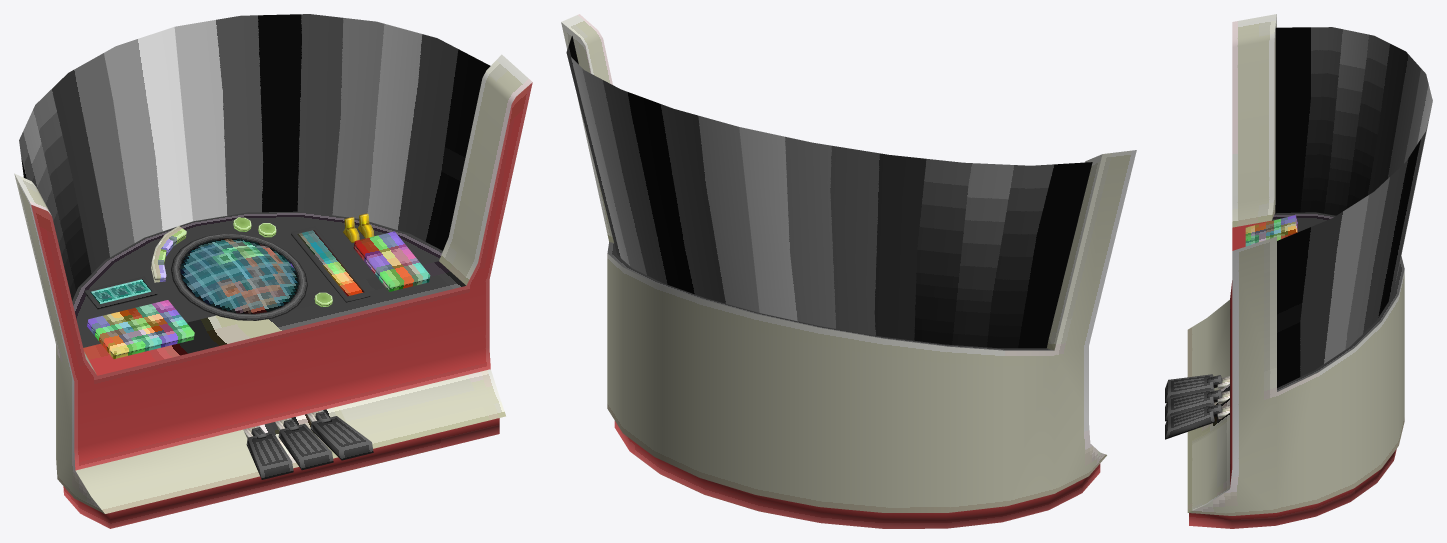
Rendered from int_sff_monitor01.dae.
3 renders of one model, left to right at view 1: azimuth 30°, elevation 25°; view 2: azimuth 150°, elevation 25°; view 3: azimuth 270°, elevation 25°, orthographic. The views are drawn at different scales.
Parts seen in each view (by area): view 1: int_sff_monitor01; view 2: int_sff_monitor01; view 3: int_sff_monitor01.
Part boxes in pixels (x1,y1,x2,y2): int_sff_monitor01: (14, 14, 532, 528); int_sff_monitor01: (561, 14, 1136, 528); int_sff_monitor01: (1165, 14, 1432, 528).
Bounding box in the file's own units: 62.83 × 42.99 × 31.06.
Materials: 3 (3 with a texture image).
